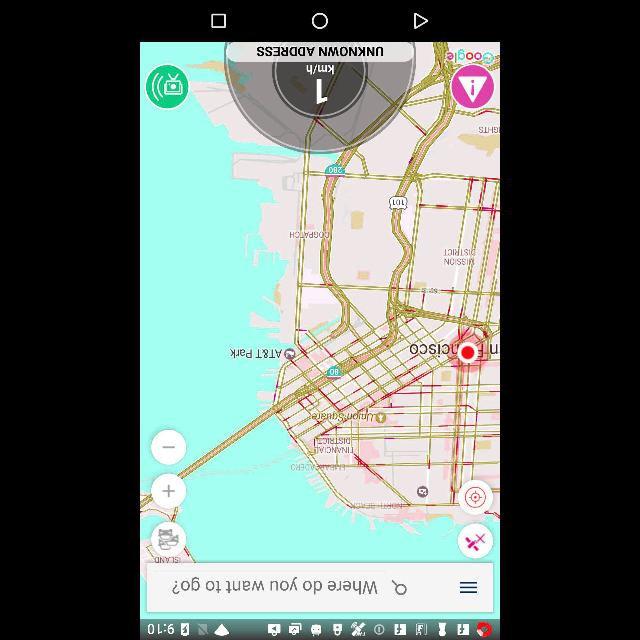icon: (312, 12, 328, 30), (458, 580, 478, 594), (414, 12, 428, 30), (392, 579, 406, 595), (211, 14, 225, 28)
input: (147, 564, 493, 612)
map: (140, 42, 500, 564)
panel: (140, 1, 500, 42)
uppertaskbar: (141, 620, 499, 640)
